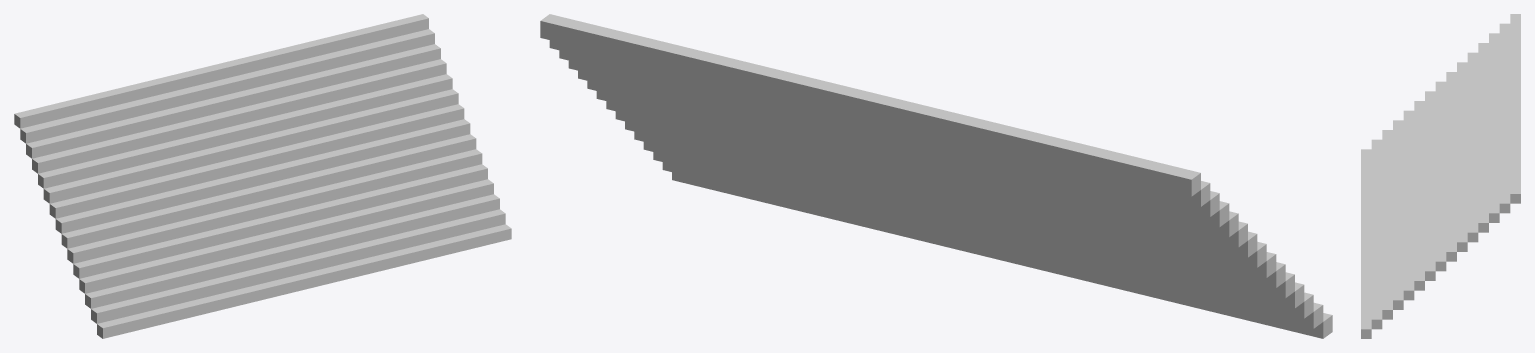
Rendered from ConstructionMaterials-32.obj.
3 renders of one model, left to right at view 1: azimuth 30°, elevation 25°; view 2: azimuth 150°, elevation 25°; view 3: azimuth 270°, elevation 25°, orthographic. The views are drawn at different scales.
Size of the model in its own units: 4 by 1.5 by 1.5.
1 material, 1 textured.
